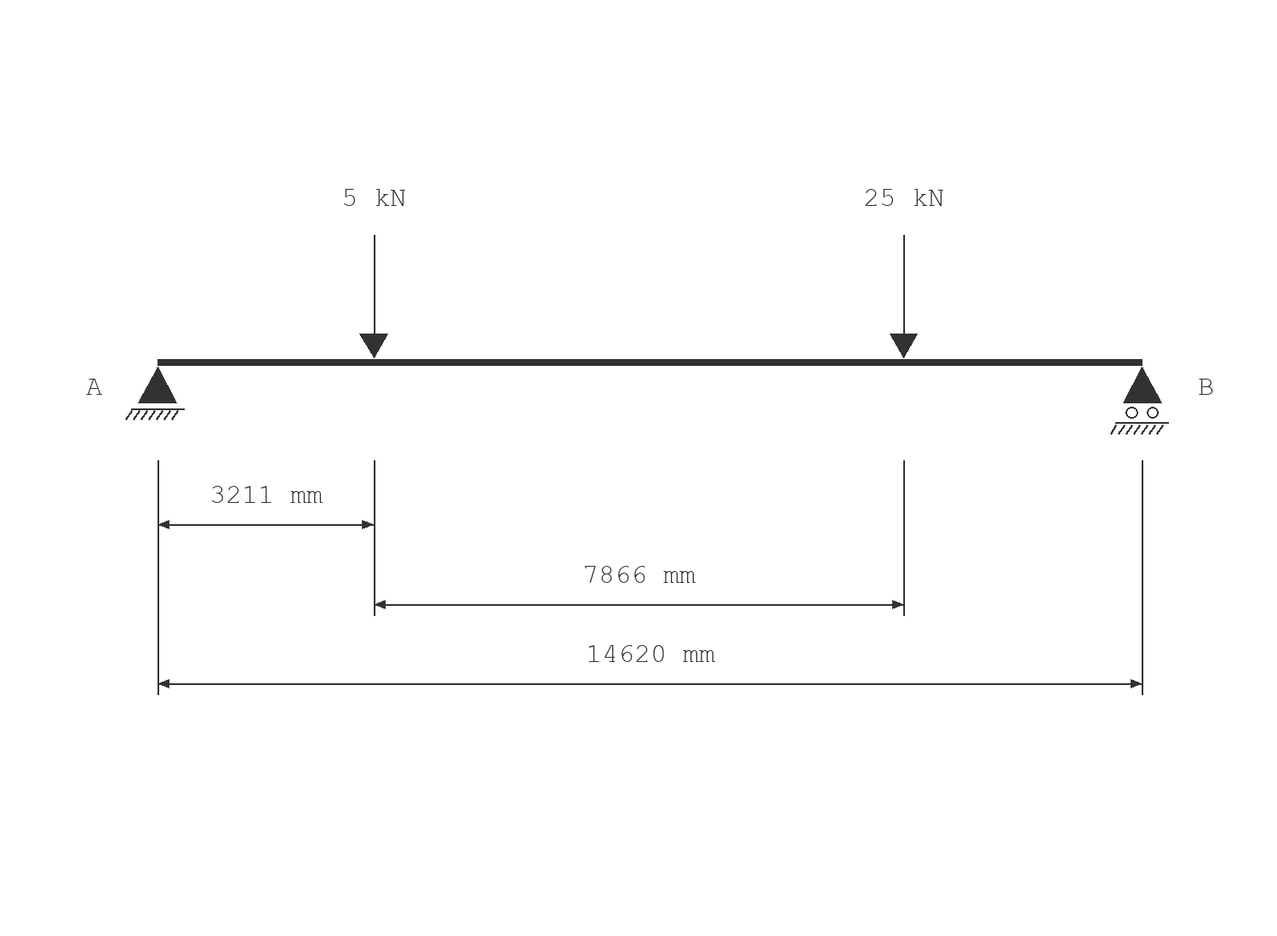pin_support: (125, 367, 185, 420)
point_load: (359, 235, 388, 358), (890, 235, 918, 358)
roller_support: (1110, 367, 1169, 435)
